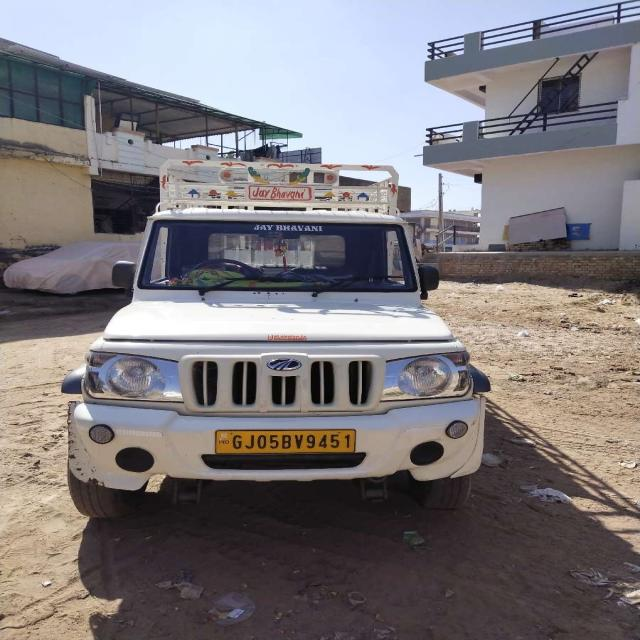light_vehicle: (61, 204, 475, 497)
